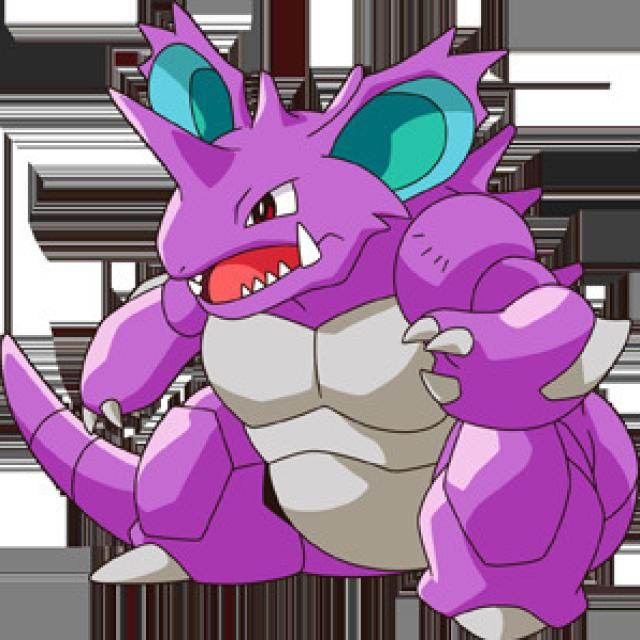Nidoking: (86, 37, 604, 582)
